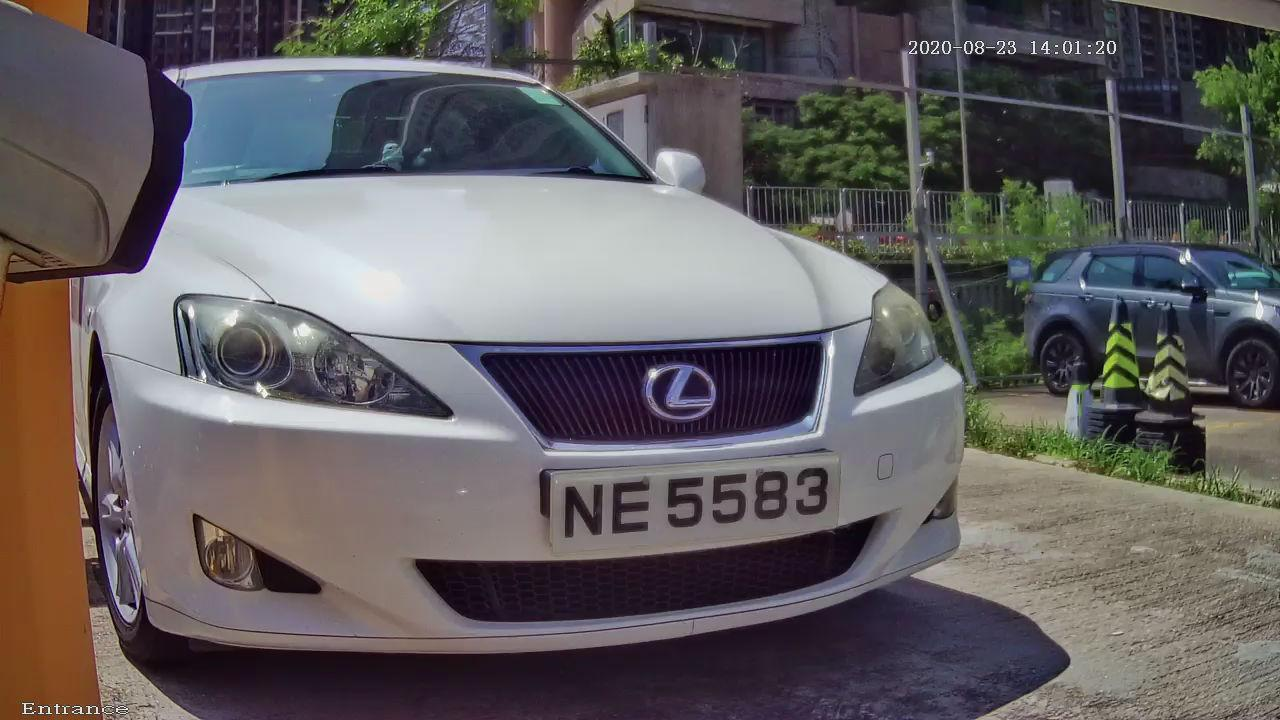Car: (6, 10, 1046, 714)
License Plate: (507, 407, 877, 588)
